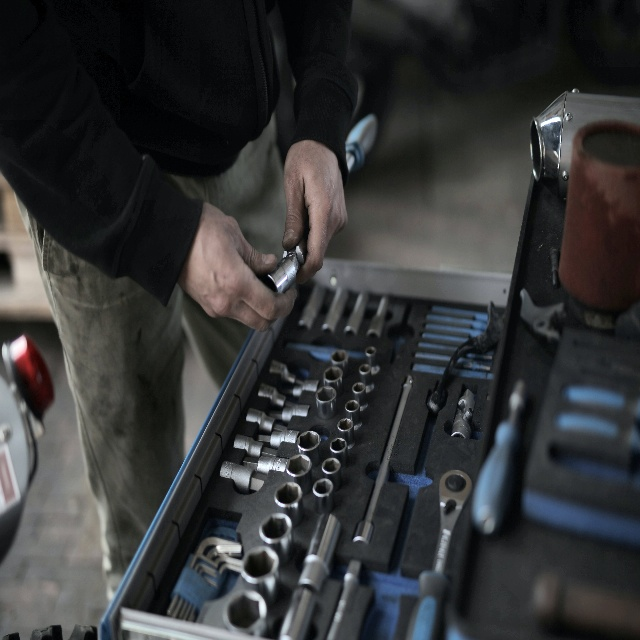Sin_guantes: (178, 203, 298, 332), (283, 141, 349, 287)
